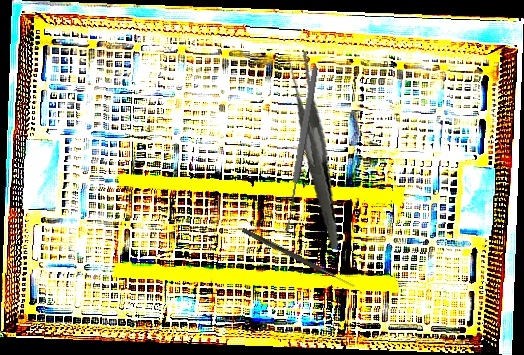Dressing Forceps: (265, 50, 361, 250)
Hook Surgical: (241, 227, 356, 289)
Surgical Spoon: (281, 65, 321, 234)
